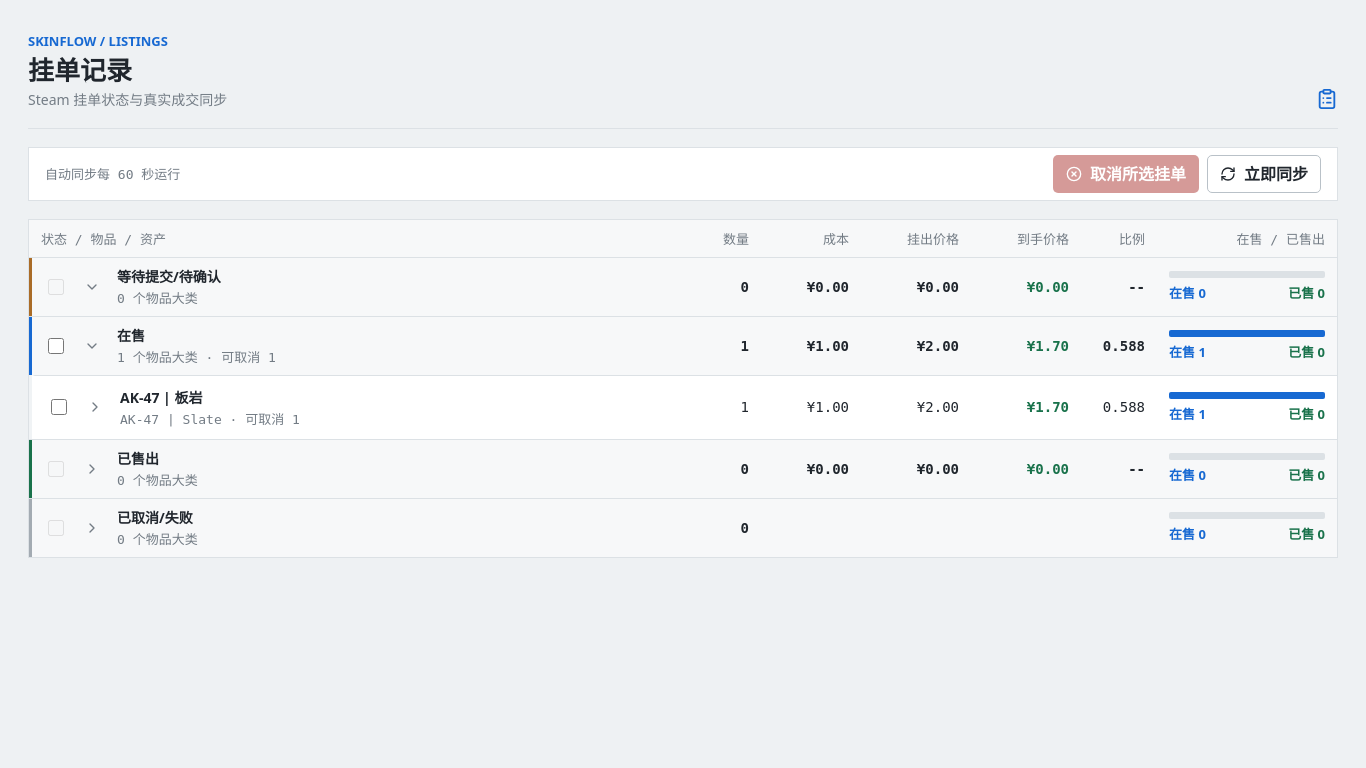
Test case: ListingsPage › renders status, item group, and asset levels in order
Expected: the text "在售" is shown, [117, 326, 145, 345]
Click the button named "展开 AK-47 | 板岩".
click(95, 407)  # box [78, 390, 112, 424]
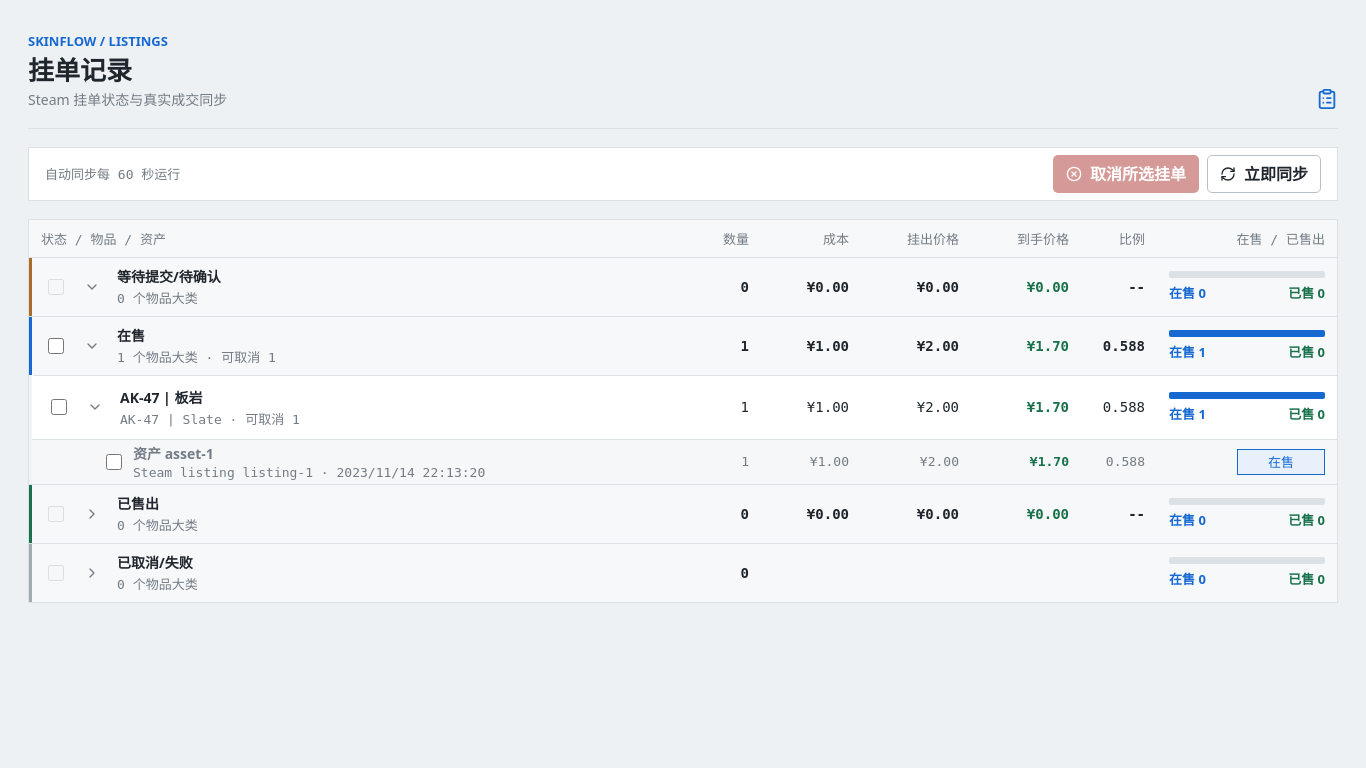
Expected: the checkbox named "选择在售下所有可取消挂单" is shown, [48, 338, 64, 354]
Result: the text "资产 asset-1" is shown at [133, 444, 214, 463]
Result: the checkbox named "选择取消资产 asset-1" is shown at [106, 454, 122, 470]
